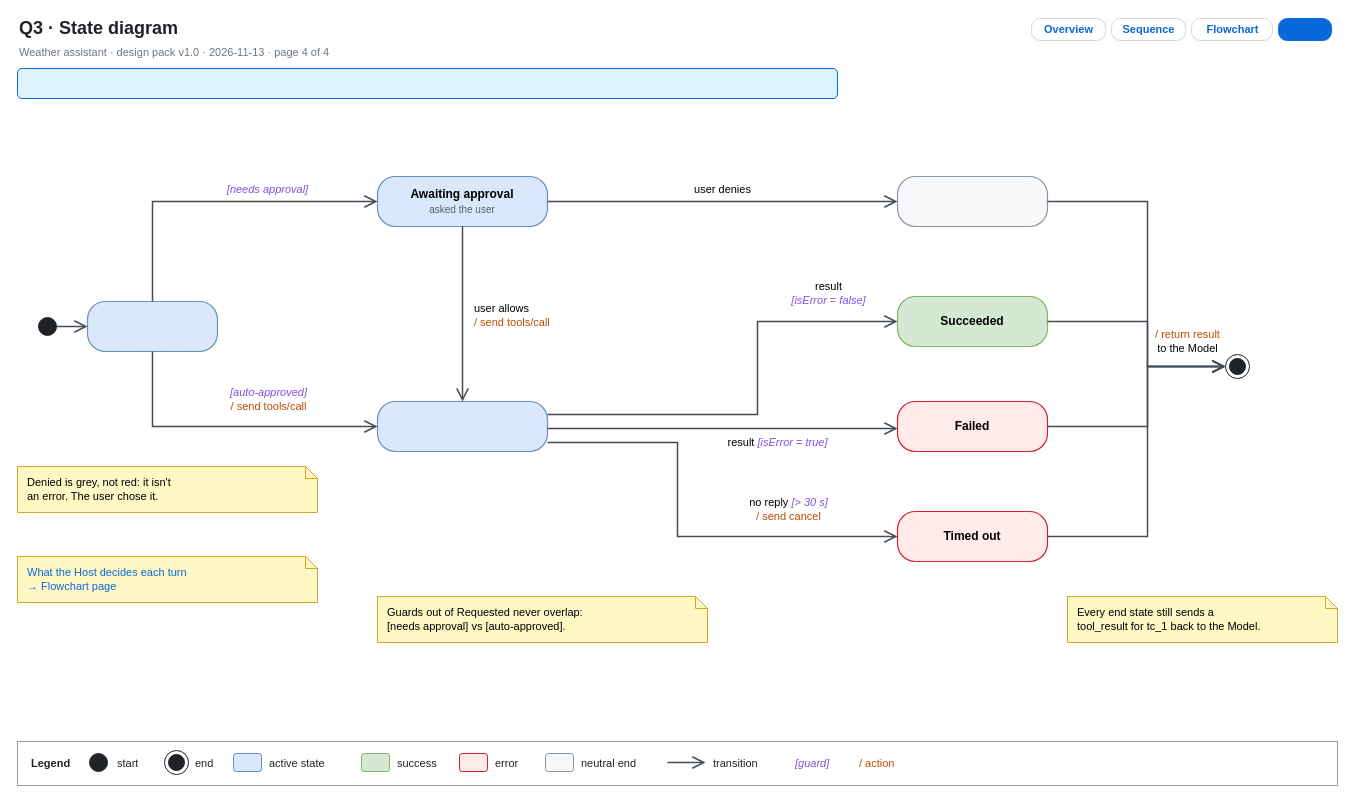
Image size: 1355x803. Some labels were removed from this diagram. The box of each missing label's shape, as (x1, y1, x2, y2) in pixels:
Denied: (896, 175, 1048, 227)
Q3 · What states can one tool call (tc_1) be in?: (16, 68, 838, 98)
Requested Model sent tool_use: (86, 300, 218, 352)
Running tools/call sent: (376, 400, 548, 452)
State: (1278, 18, 1332, 40)
